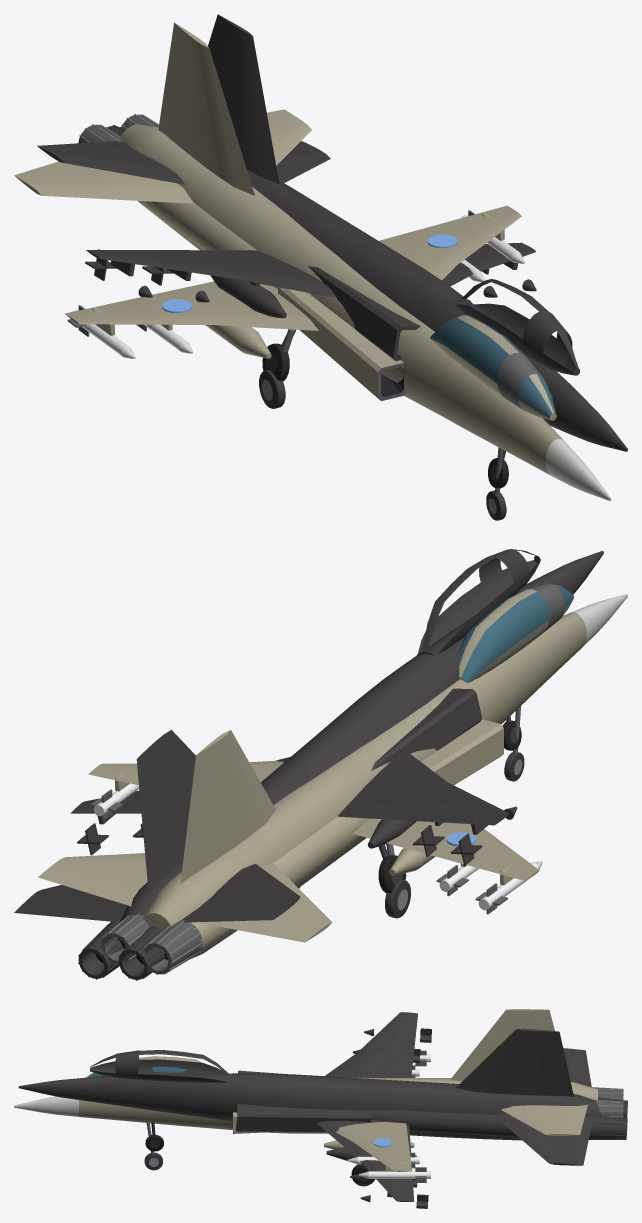
File: attackJet__jaguar.glb
3 views of the same model, one above another, from view 1: azimuth 30°, elevation 25°; view 2: azimuth 150°, elevation 25°; view 3: azimuth 270°, elevation 25° (orthographic). The views are drawn at different scales.
Visible parts, largest first — view 1: Fuselage_Mesh, Wreck; view 2: Fuselage_Mesh, Wreck; view 3: Wreck, Fuselage_Mesh.
Part boxes in pixels (x1,y1,x2,y2): Fuselage_Mesh: (14,22,611,520); Wreck: (37,14,627,488); Fuselage_Mesh: (38,583,627,974); Wreck: (14,549,603,980); Wreck: (18,1012,627,1208); Fuselage_Mesh: (14,1009,623,1186).
Size of what is drawn, in the model's own units: 9 by 4.89 by 16.99.
